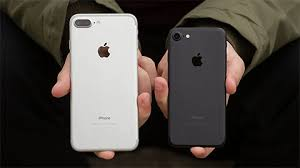iphone: (67, 9, 144, 152)
